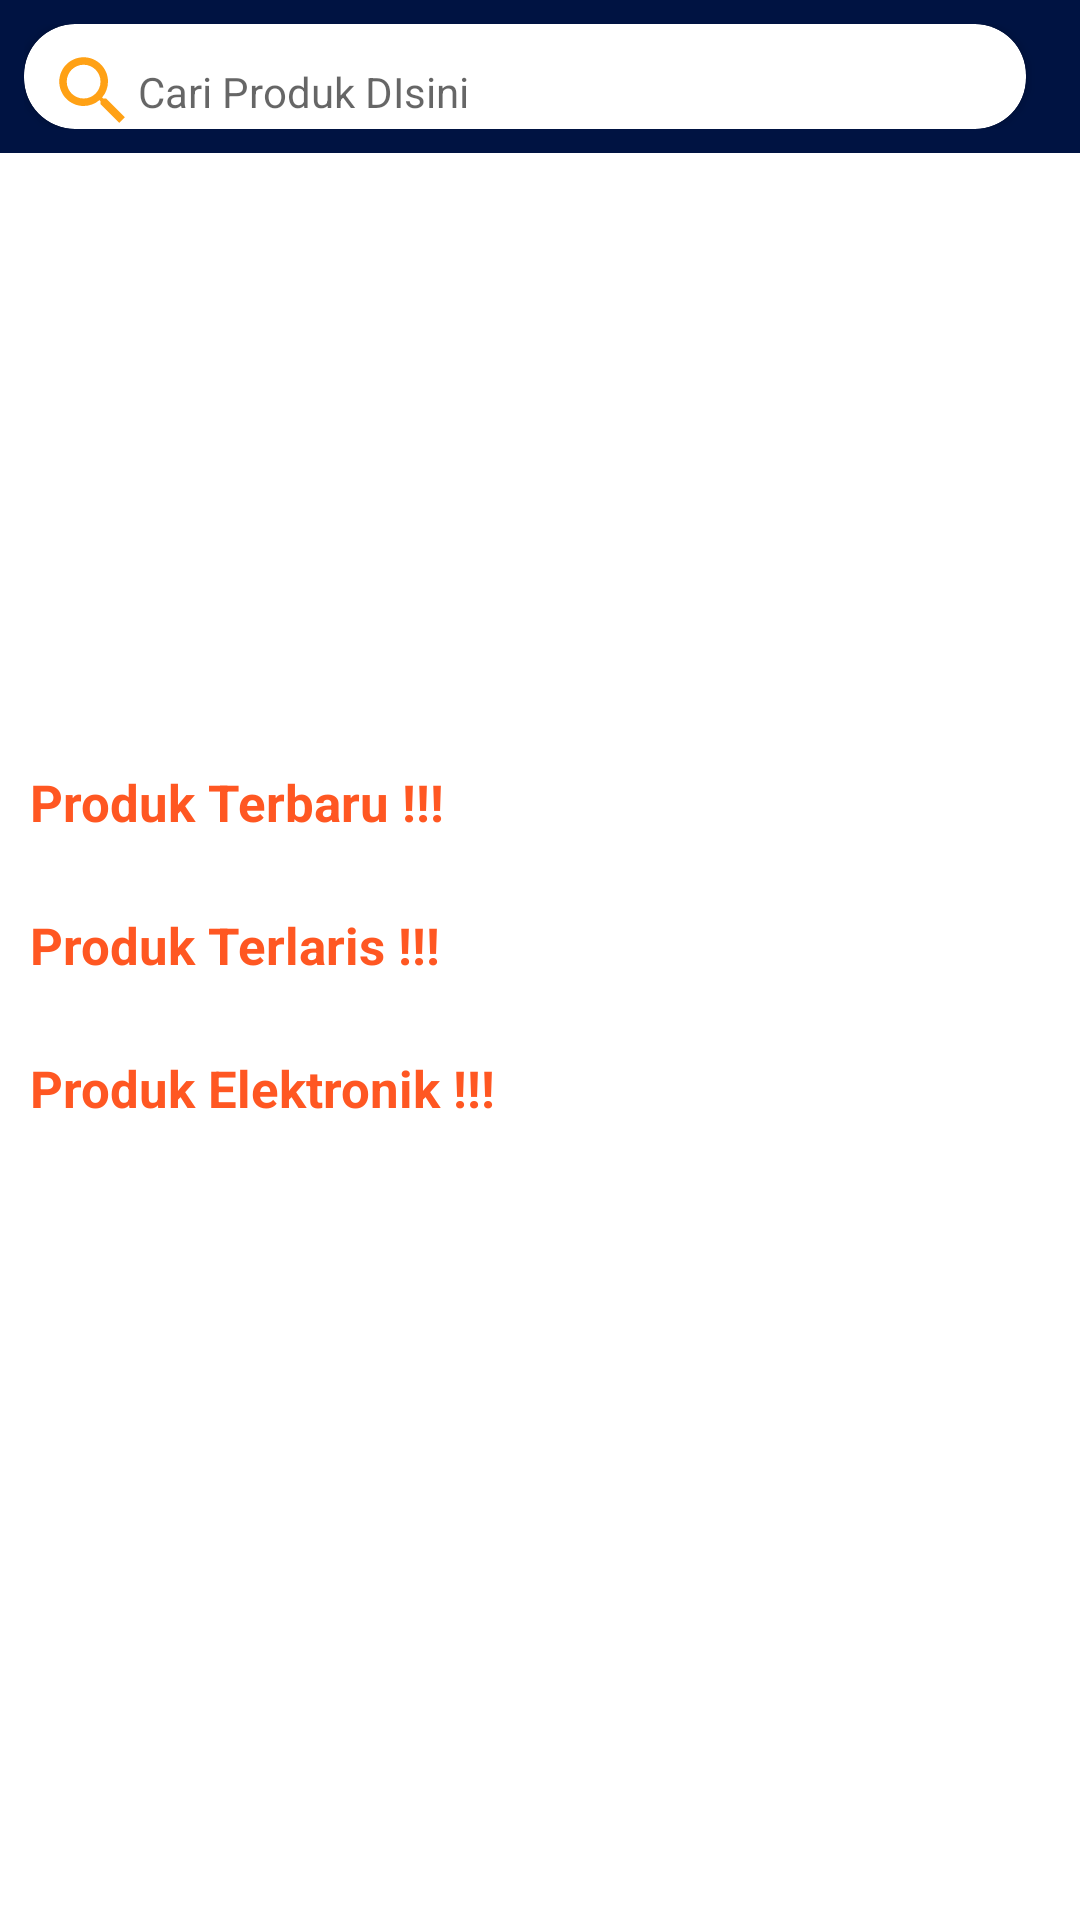

Point at icon controls on the screen. Image size 1080×1920, points as point (x, y).
search: point (92, 90)
